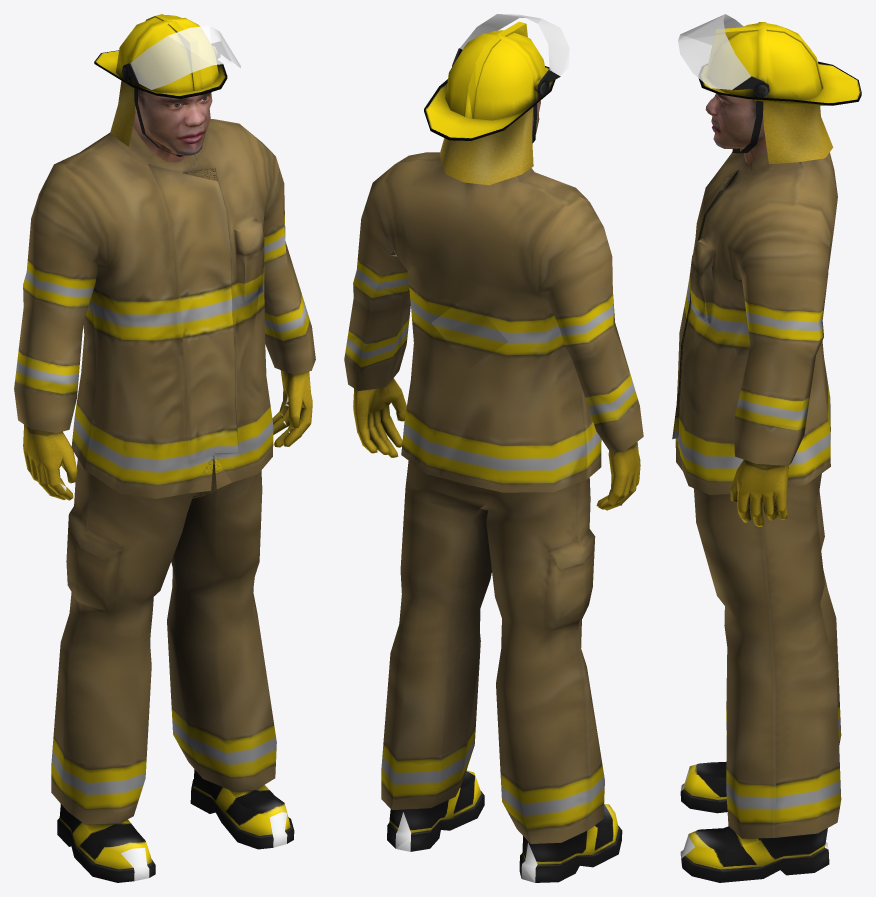
File: Fireman.dae
3 views of the same model, side by side, from view 1: azimuth 30°, elevation 25°; view 2: azimuth 150°, elevation 25°; view 3: azimuth 270°, elevation 25° (orthographic).
Visible parts, largest first — view 1: rest_1; view 2: rest_1; view 3: rest_1.
Part boxes in pixels (bbox=[...]): rest_1: bbox=[14, 14, 315, 882]; rest_1: bbox=[344, 14, 643, 882]; rest_1: bbox=[672, 14, 861, 882].
Size of the model in its own units: 27.83 by 16.2 by 76.8.
Materials: 6 (4 with a texture image).
